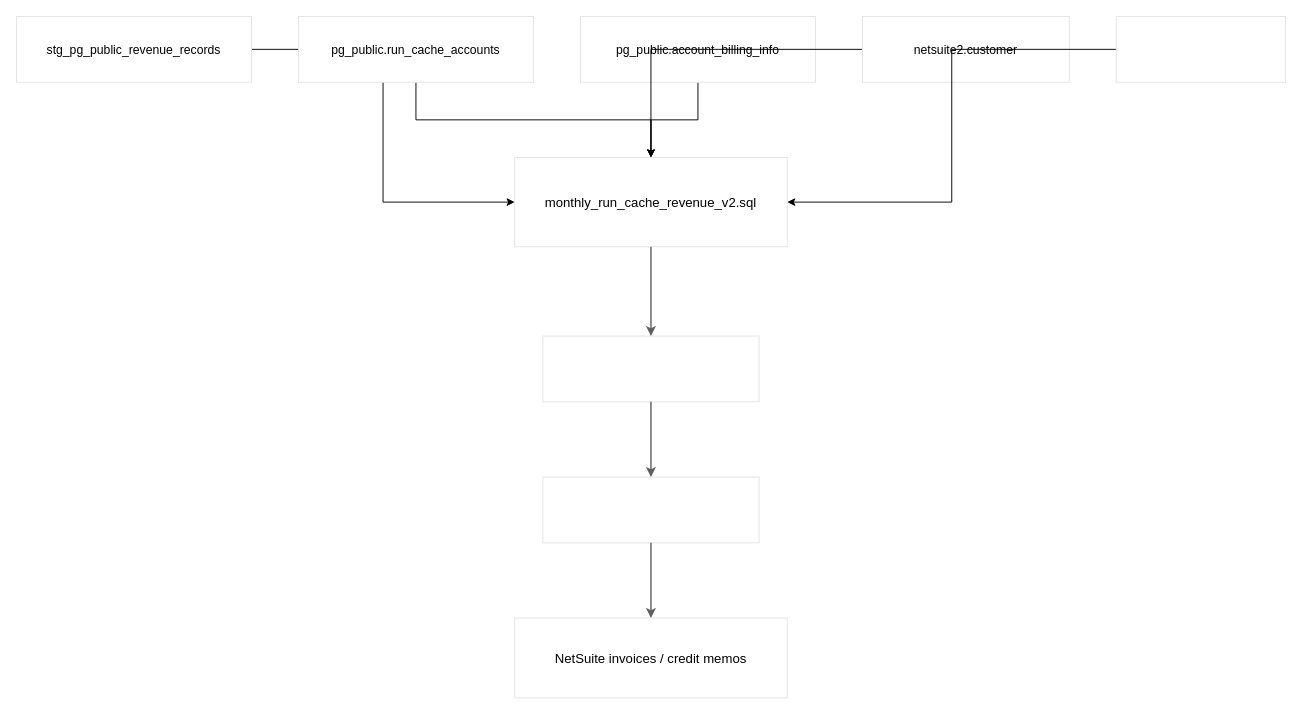
Image size: 1302x714. Some labels were removed from this diagram. Each missing label, with the box of its shape:
Celigo Pipeline: (542, 476, 759, 543)
netsuite2.item: (1115, 16, 1285, 82)
RunCache billing dataset: (542, 335, 759, 402)
